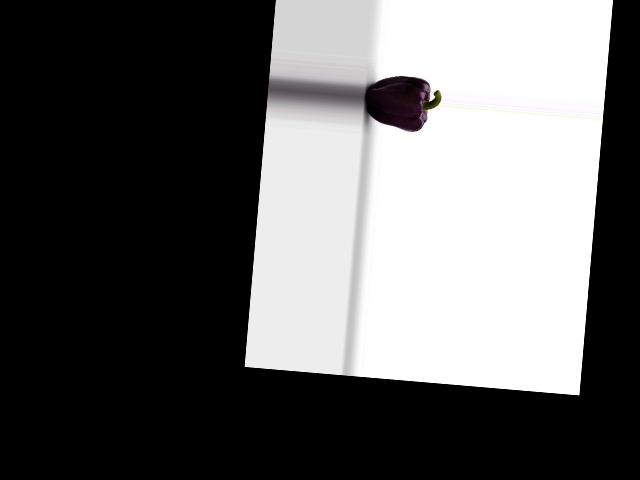bell_pepper: (364, 67, 442, 138)
